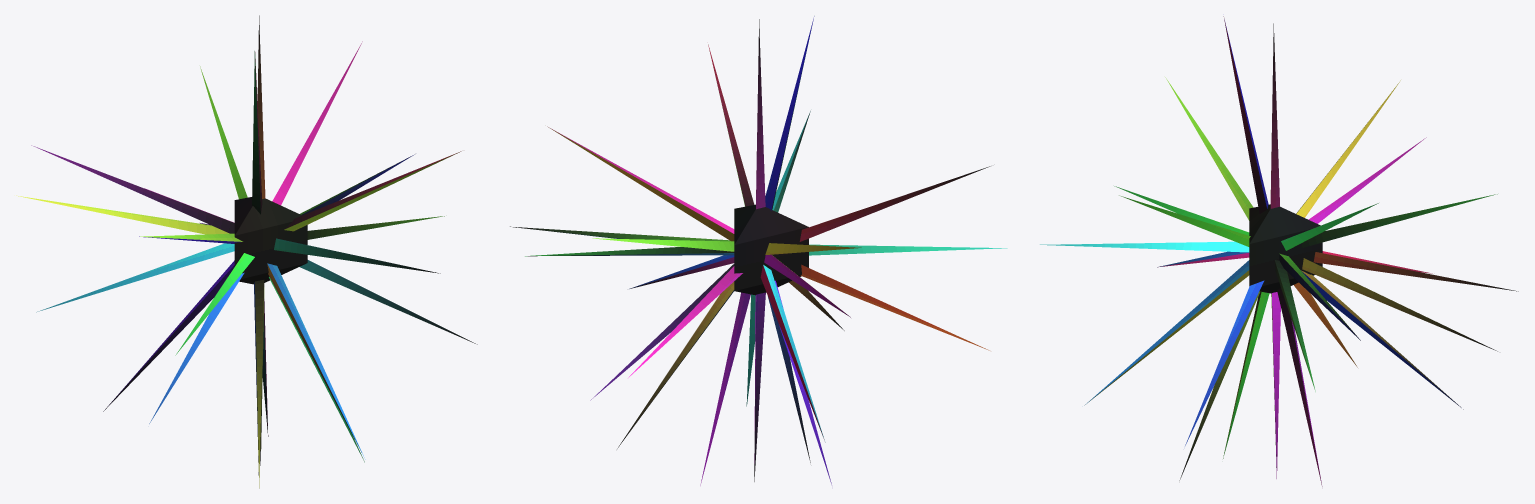
File: UrchinEnemy.fbx
3 views of the same model, side by side, from view 1: azimuth 30°, elevation 25°; view 2: azimuth 150°, elevation 25°; view 3: azimuth 270°, elevation 25° (orthographic). The views are drawn at different scales.
Visible parts, largest first — view 1: UrchinMesh; view 2: UrchinMesh; view 3: UrchinMesh.
Boxes of the visible parts, bbox=[...] form: UrchinMesh: bbox=[16, 15, 477, 488]; UrchinMesh: bbox=[510, 16, 1007, 485]; UrchinMesh: bbox=[1040, 16, 1518, 486].
Bounding box in the file's own units: 793 × 898 × 856.
